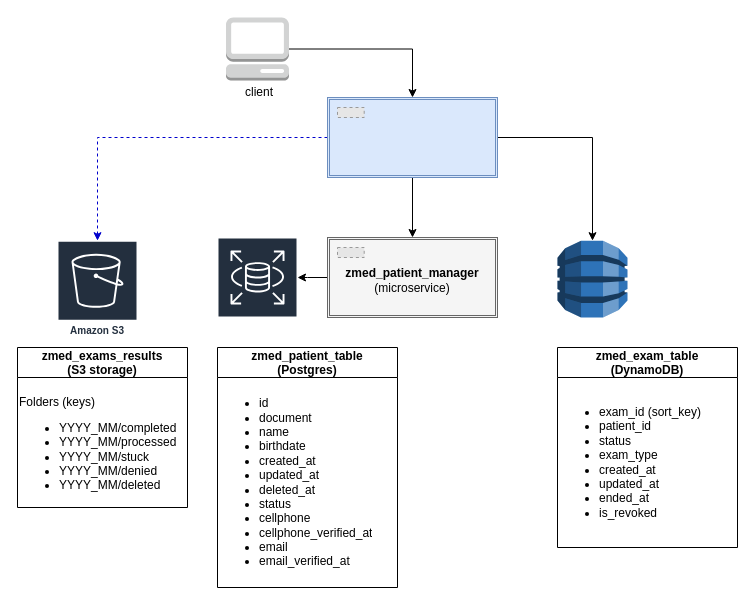
This 755x605 diagram has some shape labels left out. Grey dashed boxes stand in for pictures. Here are the shapes that lost their labels. From the top down, the centre of each, then its label:
At point 412,137: "zmed_exam_manager (microservice)".
At point 257,287: "Amazon RDS".
